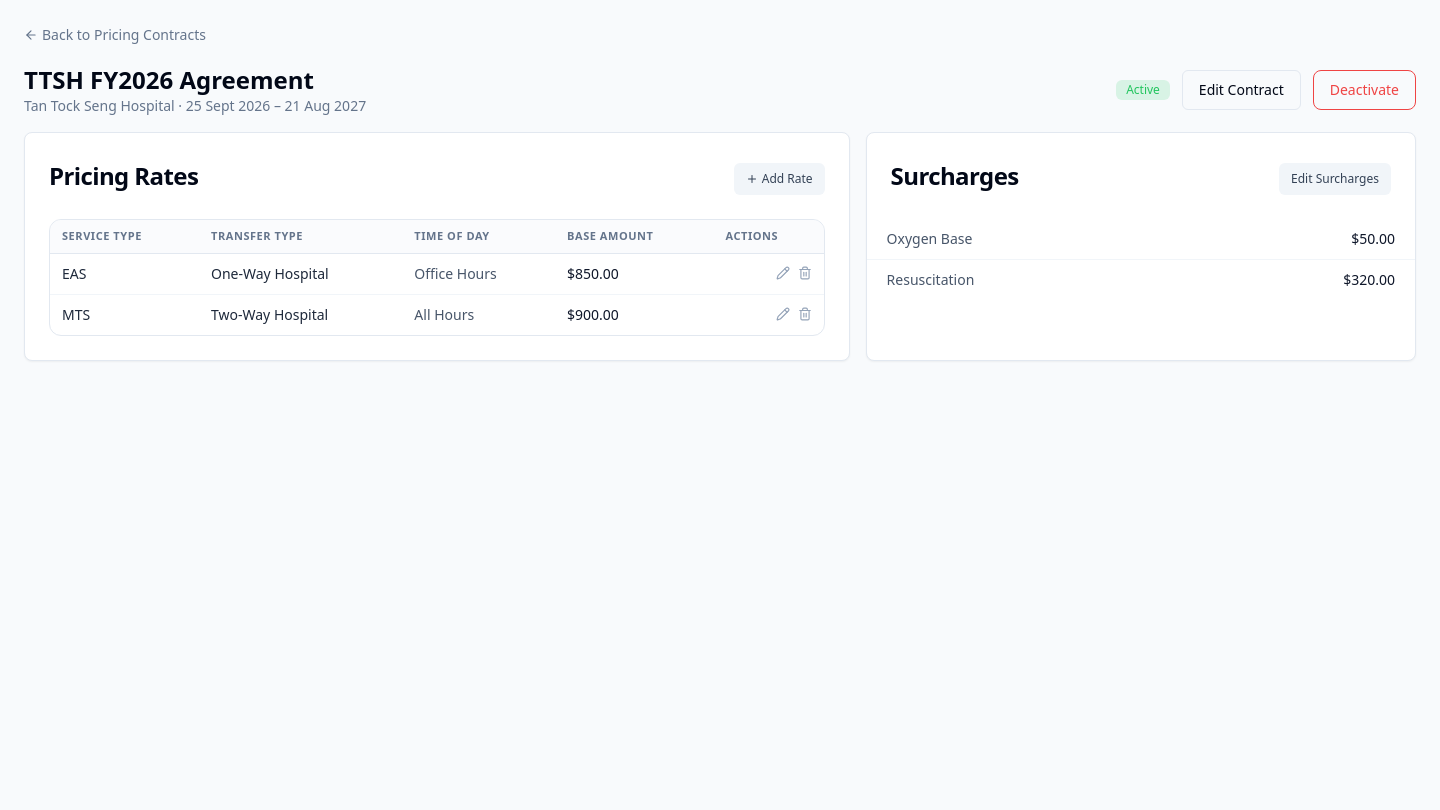
Test: ContractDetailPage - rate management › deleting a rate asks for confirmation first
This screenshot has width=1440, height=810.
Check: the heading "TTSH FY2026 Agreement" is shown, box 24,63 -> 314,96
Click the 7th button: (805, 272) 798,266 -> 812,280
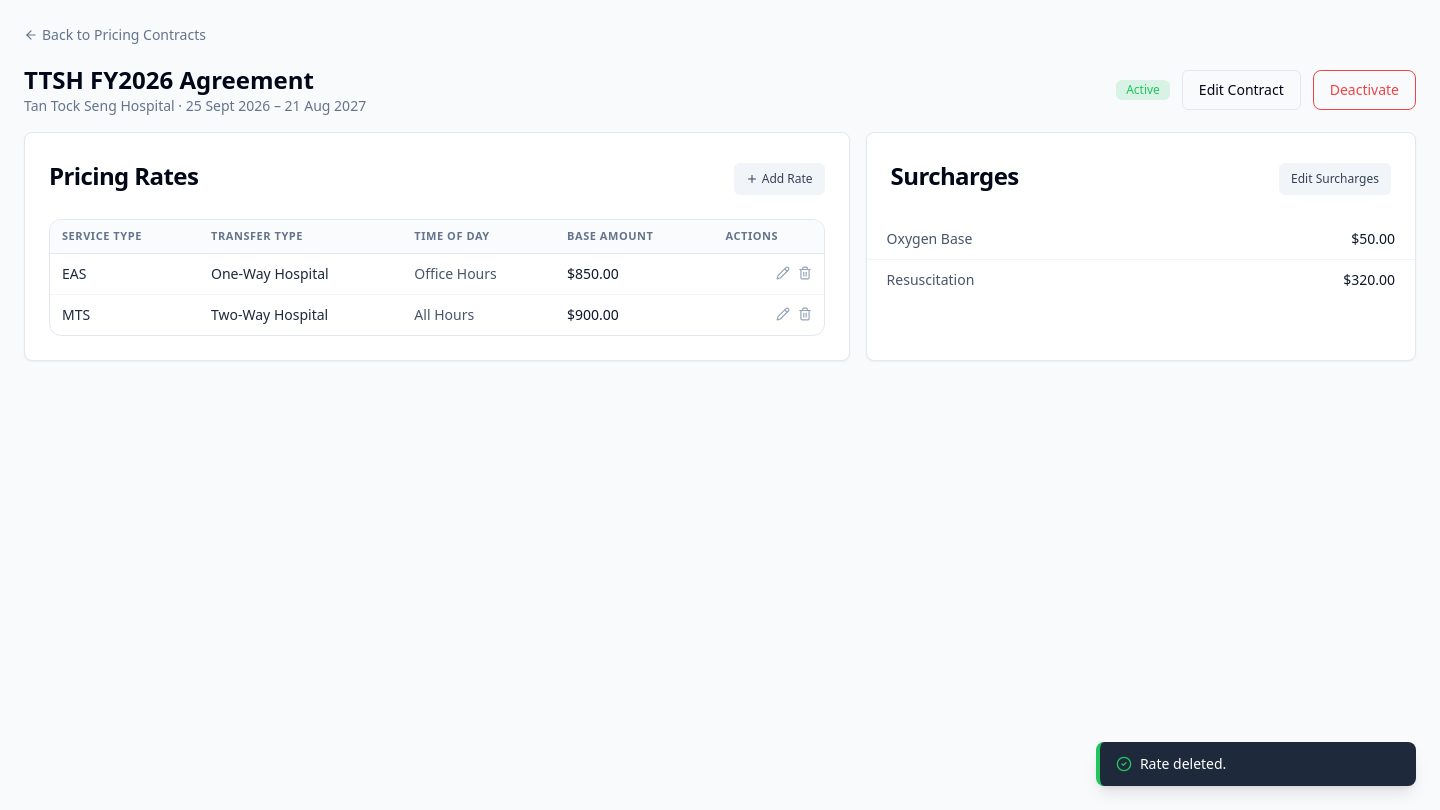
Check: the text "Rate deleted." is shown, box 1140,754 -> 1226,773
